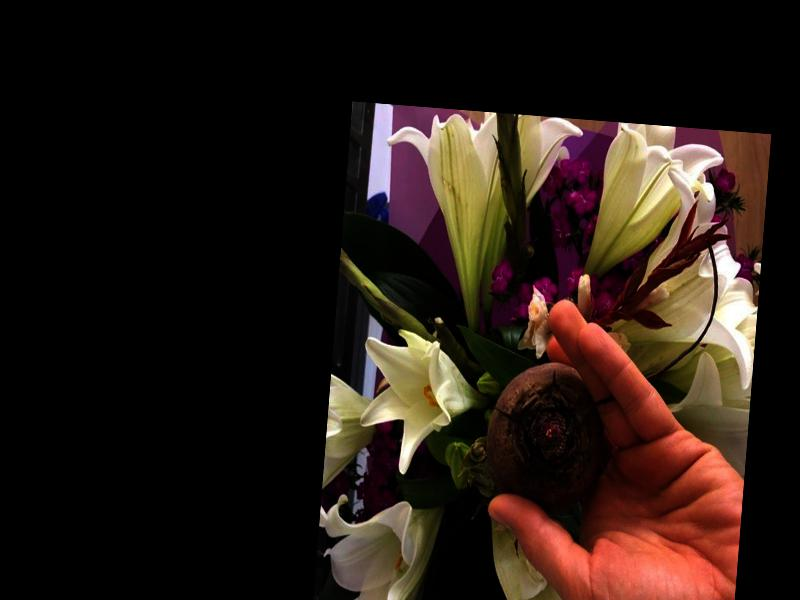Beet: (481, 355, 613, 514)
